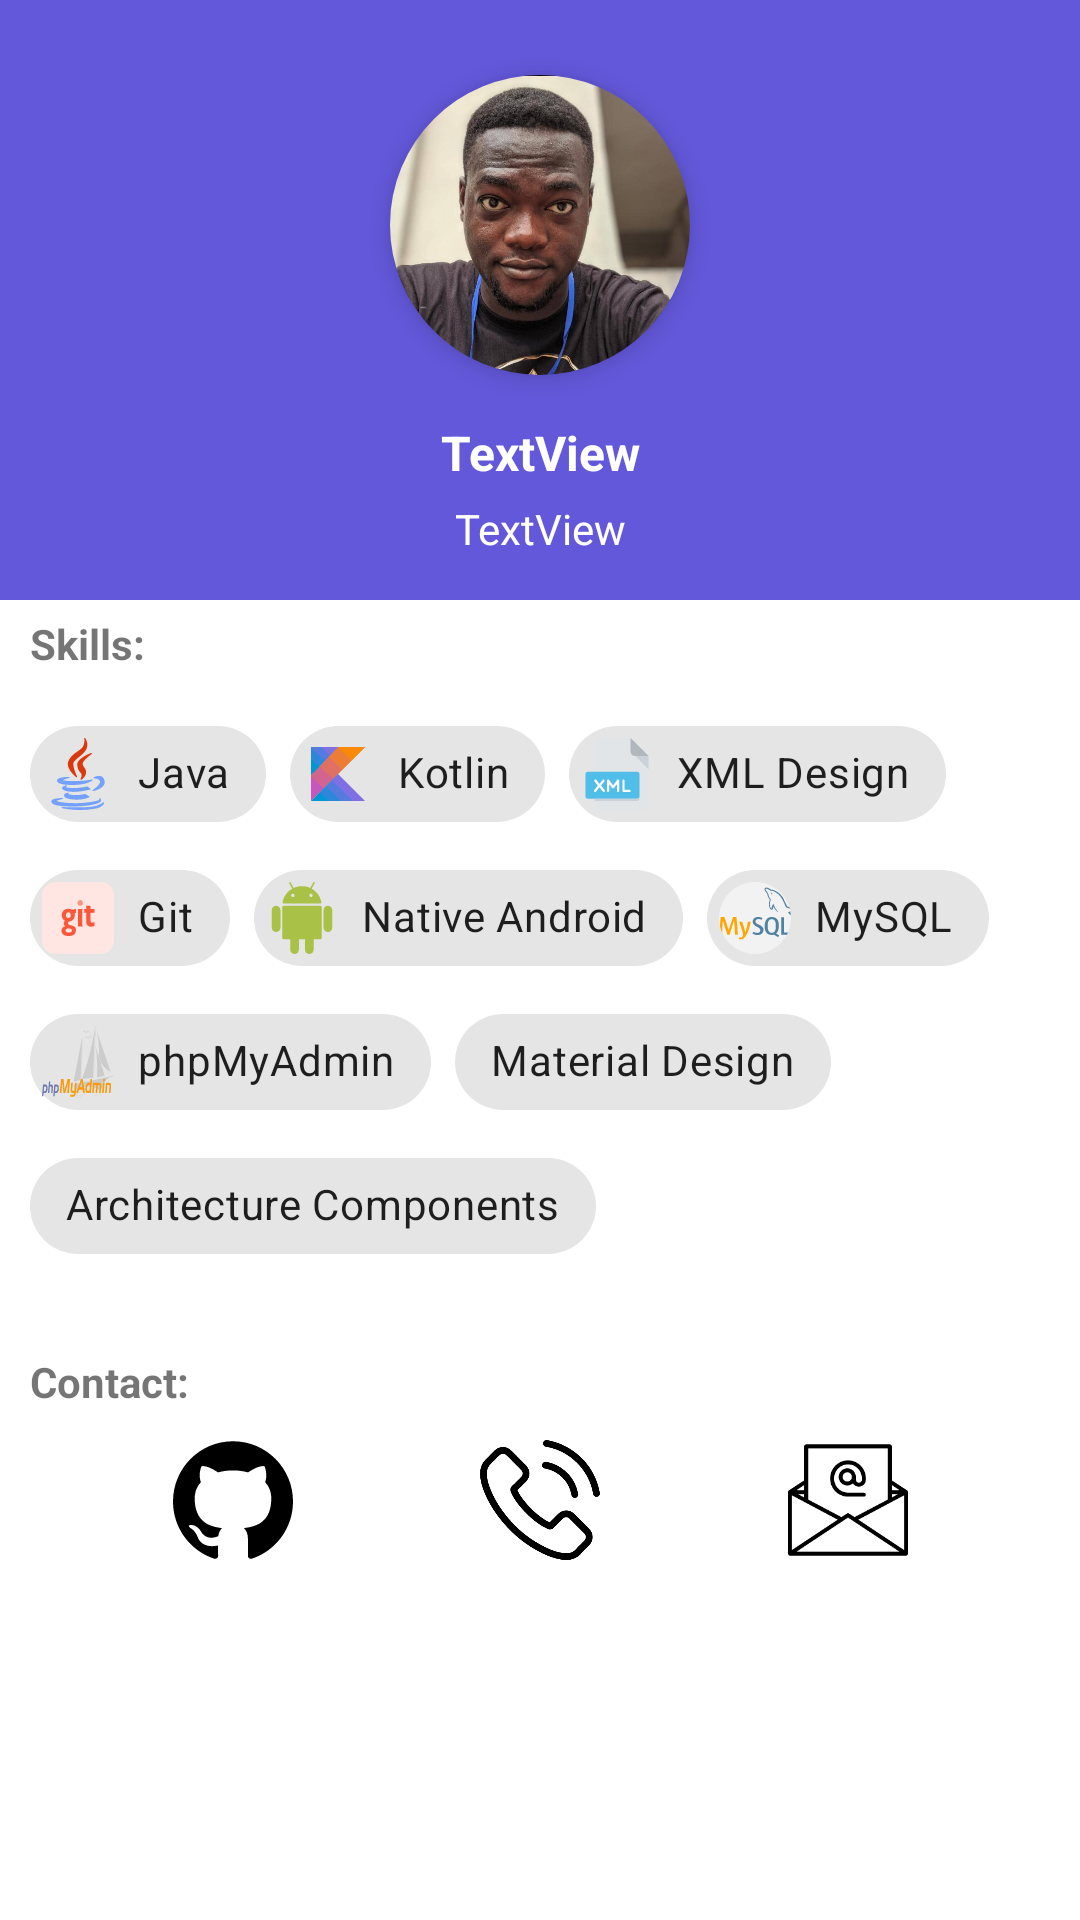

Locate icon controls on the screen. Image size 1080 x 1920, boxes as (x1, y1, x2, y2).
email: (788, 1444, 908, 1556)
phone call: (480, 1440, 600, 1560)
